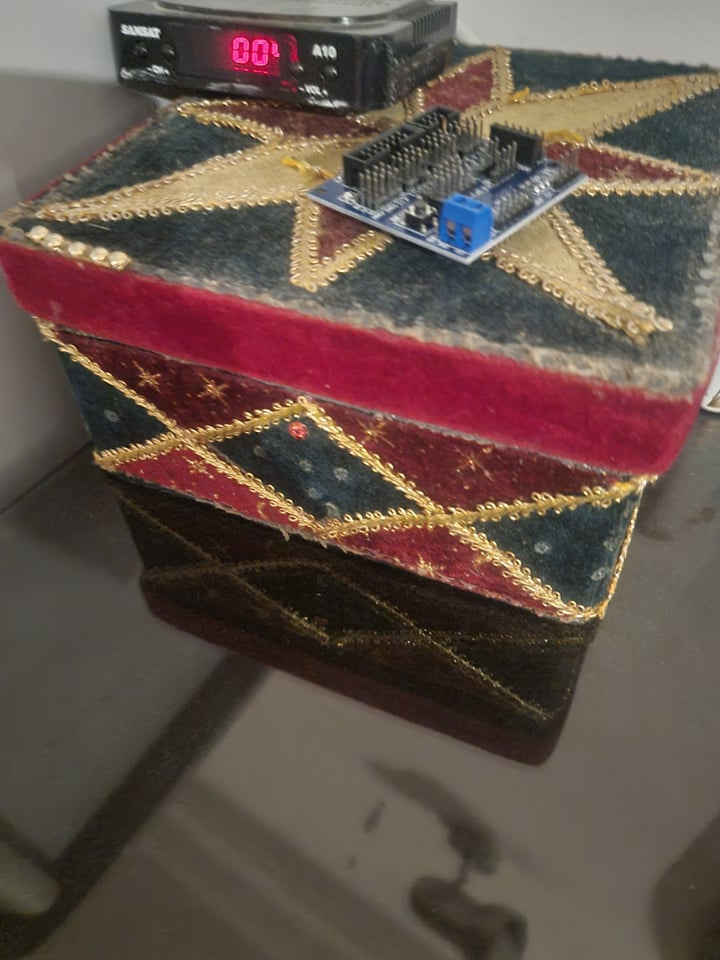5V EXPANSION: (304, 107, 586, 267)
